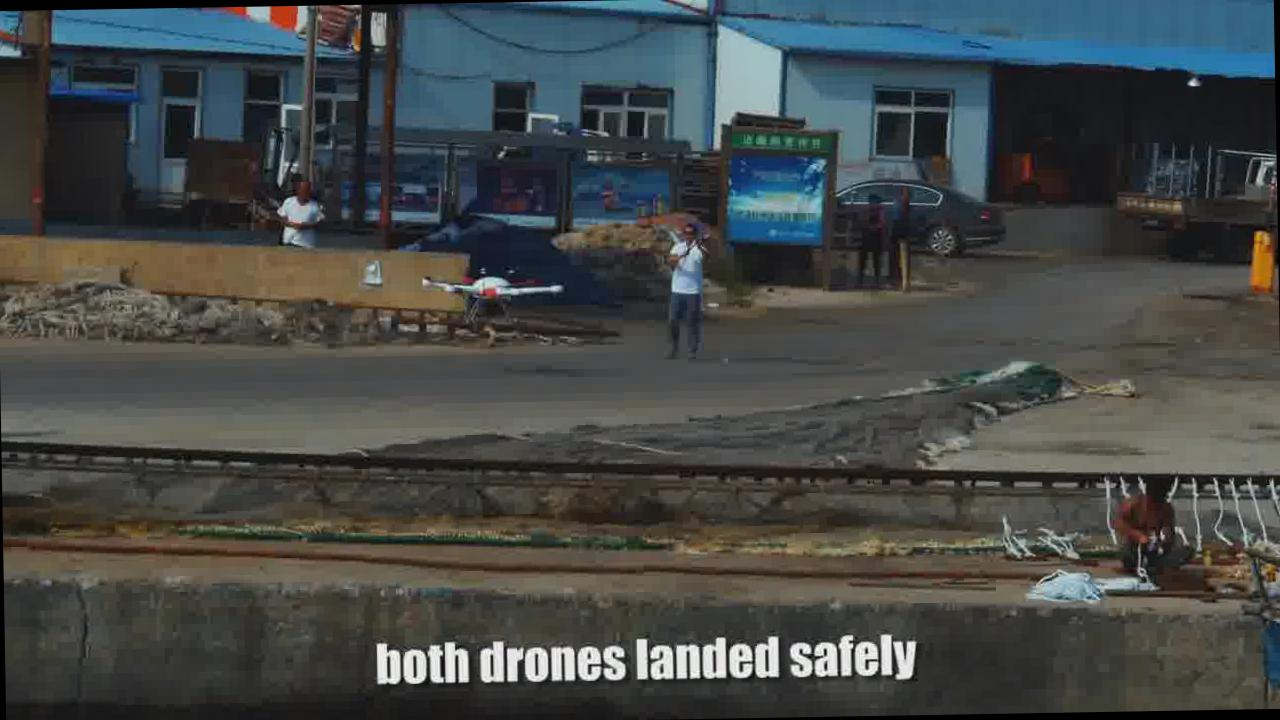drone: (417, 256, 567, 313)
